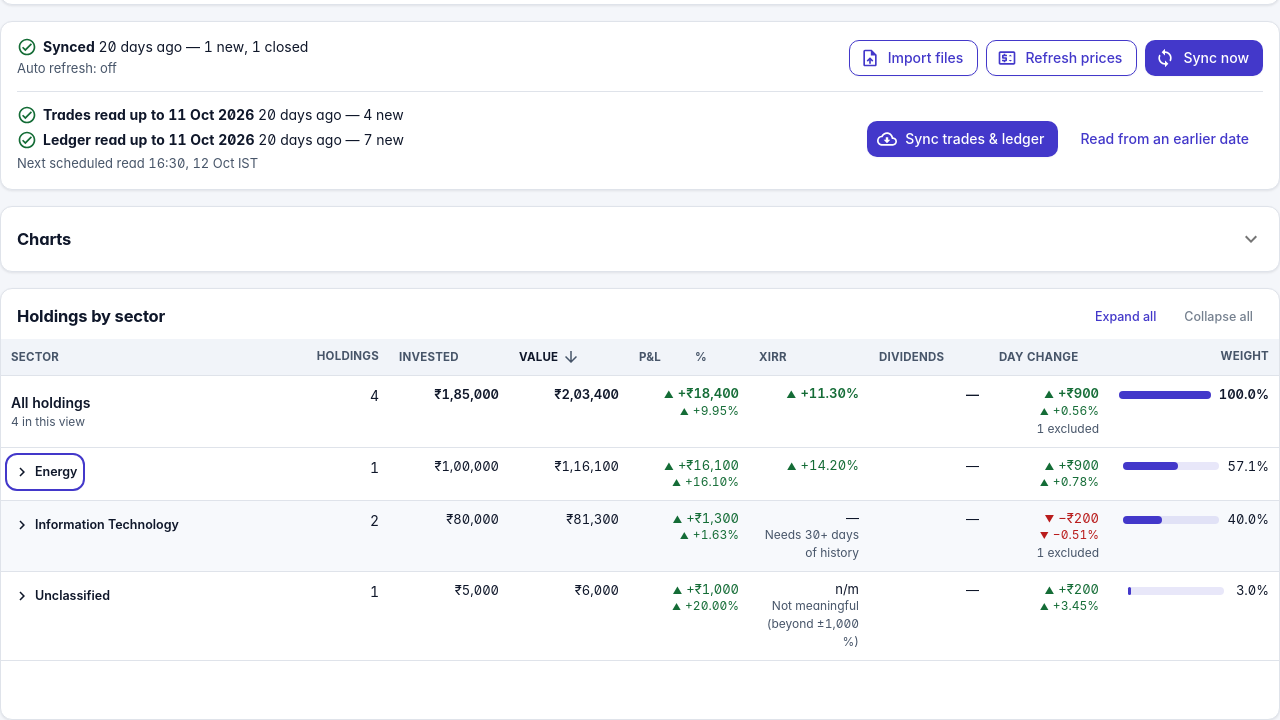
Group by: opening a group › opens with Enter and closes with Space, keeping the opened holdings in the cache for the next time
(page scrolled)
Press Enter
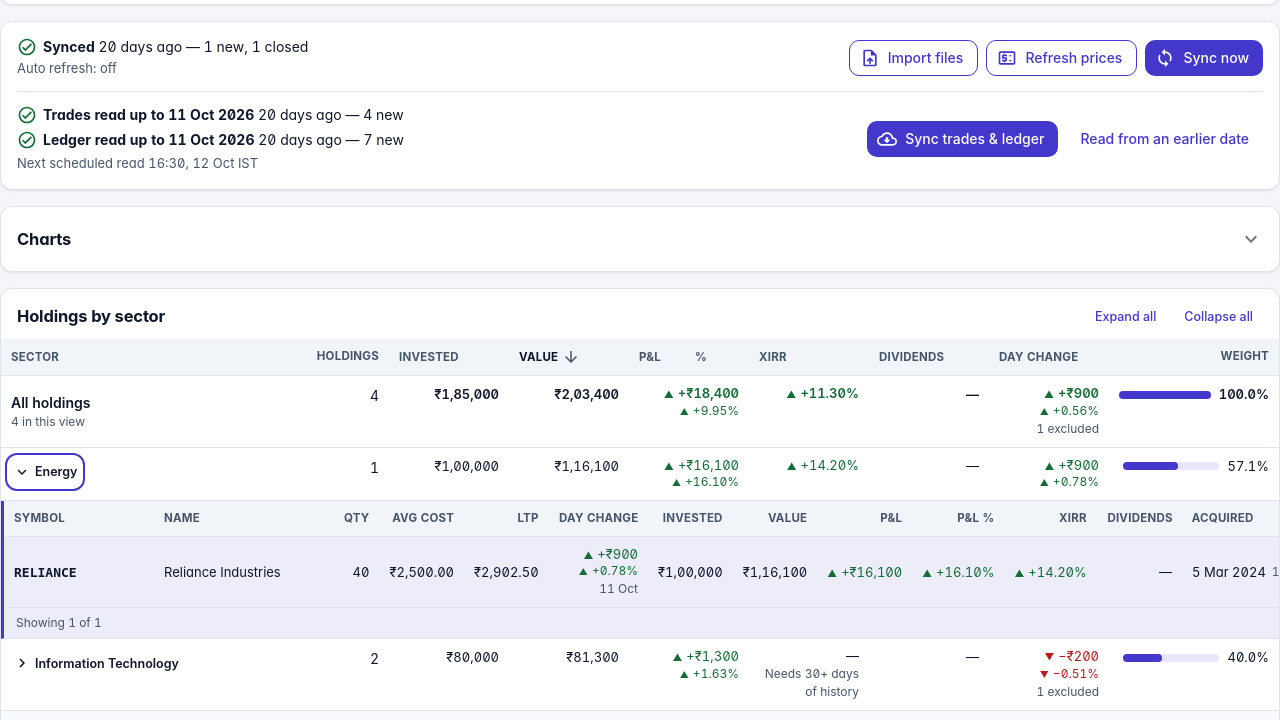
Check: the cell "RELIANCE" is shown, box x1=4 y1=537 x2=154 y2=608
Type keys " "
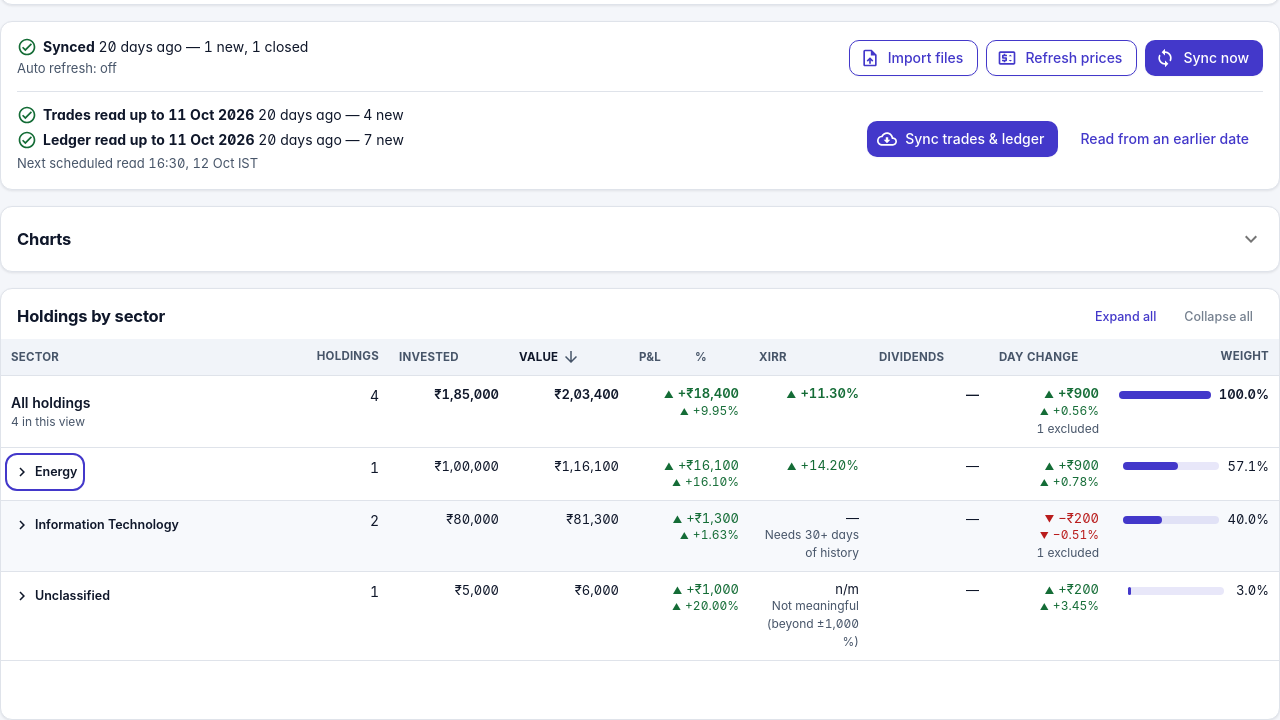
Check: the button "Energy" is collapsed
Click the button "Energy" at (45, 472), box x1=9 y1=457 x2=82 y2=487
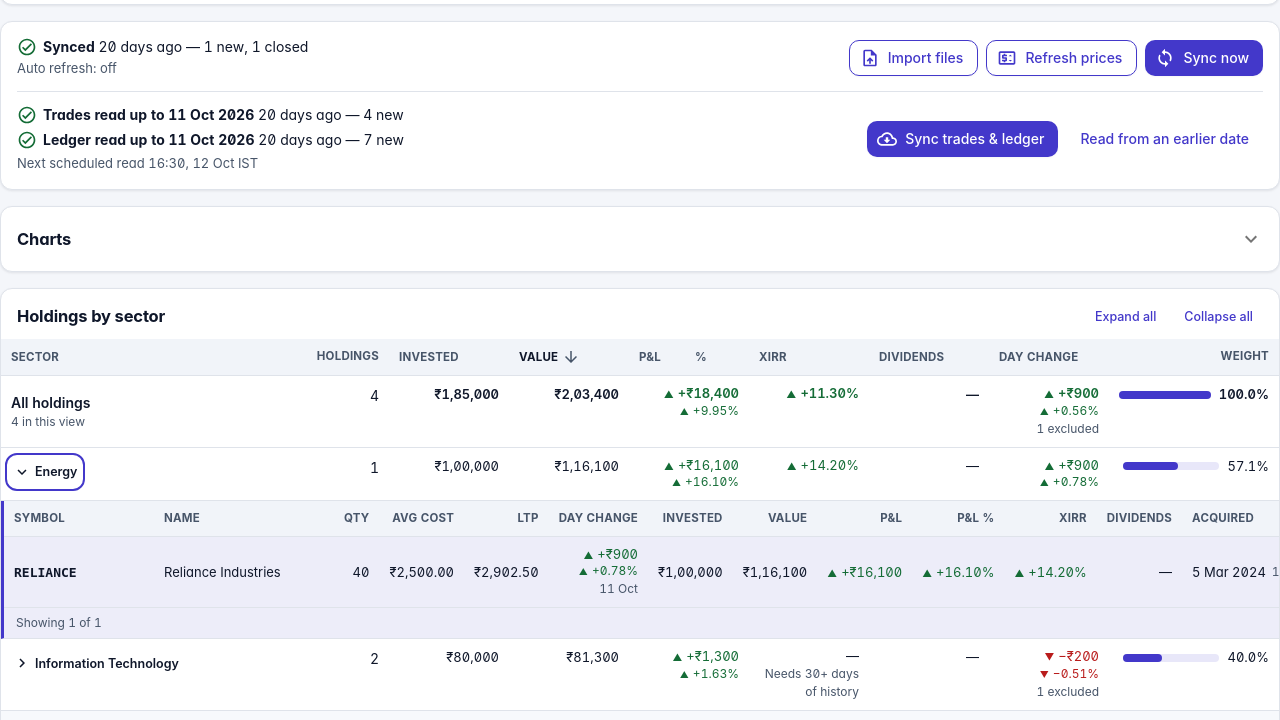
Check: the cell "RELIANCE" is shown, box x1=4 y1=537 x2=154 y2=608
